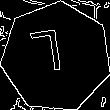L_S: (37, 29, 75, 84)
